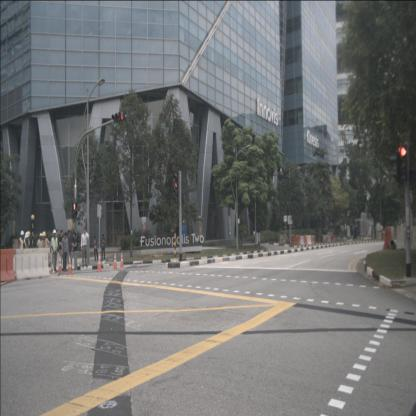barrier: (16, 247, 51, 280), (0, 250, 16, 282), (382, 227, 390, 250), (390, 226, 396, 249), (291, 235, 300, 246), (323, 235, 330, 242), (304, 236, 308, 246), (300, 236, 304, 245), (308, 236, 312, 245), (330, 236, 334, 244), (312, 236, 315, 245)
cone: (66, 254, 73, 276), (96, 252, 103, 273), (119, 252, 125, 269), (112, 254, 118, 270), (58, 255, 63, 274)
